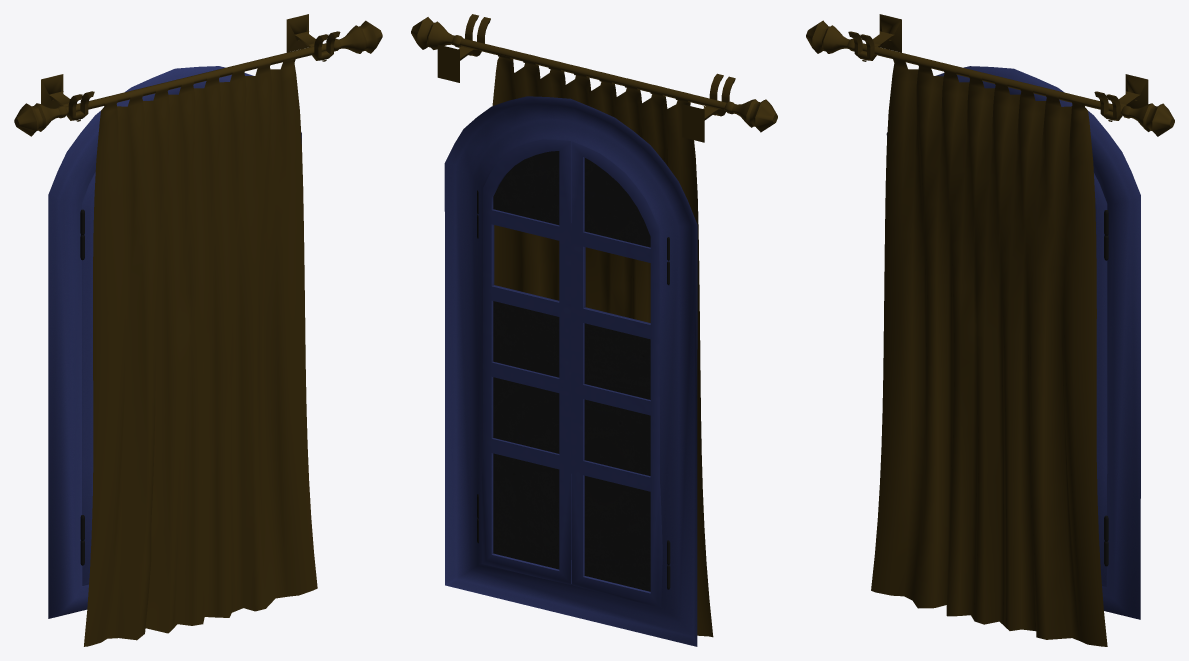
Rendered from finestra_gran_cortina_posada.FBX.
3 renders of one model, left to right at view 1: azimuth 30°, elevation 25°; view 2: azimuth 150°, elevation 25°; view 3: azimuth 330°, elevation 25°, orthographic.
Visible parts, largest first — view 1: barra_cortina_LP, LP_marc_finestra_esquerra; view 2: LP_marc_finestra_esquerra, LP_vidres_finestres, barra_cortina_LP; view 3: barra_cortina_LP, LP_marc_finestra_esquerra.
Part boxes in pixels (box(x1,y1,x2,y2)): barra_cortina_LP: box(14, 14, 382, 646); LP_marc_finestra_esquerra: box(48, 66, 301, 618); LP_marc_finestra_esquerra: box(444, 96, 697, 646); LP_vidres_finestres: box(493, 151, 650, 591); barra_cortina_LP: box(411, 14, 777, 637); barra_cortina_LP: box(806, 14, 1174, 646); LP_marc_finestra_esquerra: box(886, 66, 1140, 619).
Size of the model in its own units: 262 by 389 by 41.57.
